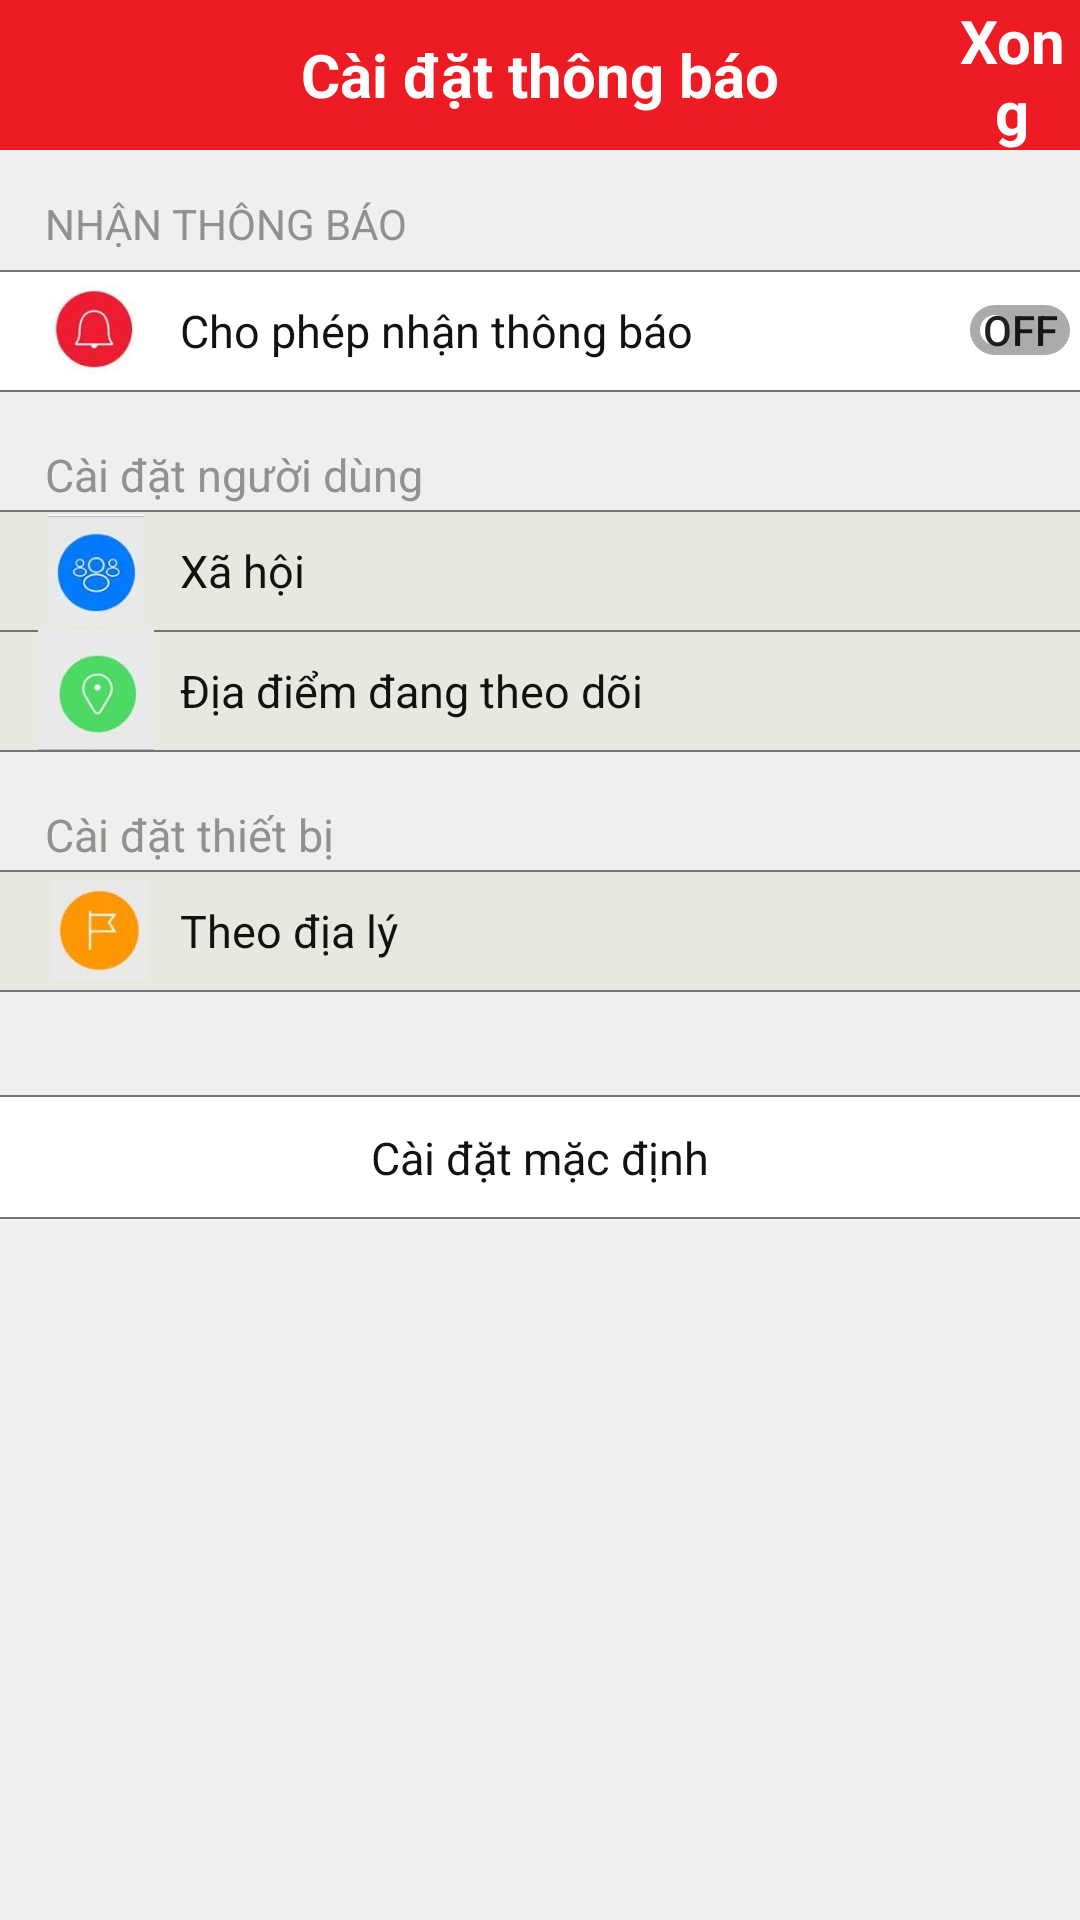

Named icons in this screenshot (1080px×1920px) and their centers, (x,y):
checkin: (98,694)
chuong: (94,329)
dialy: (96,930)
social: (96,563)
